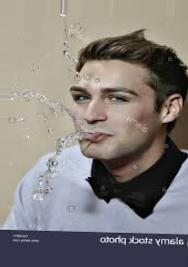spitting: (3, 1, 188, 235)
